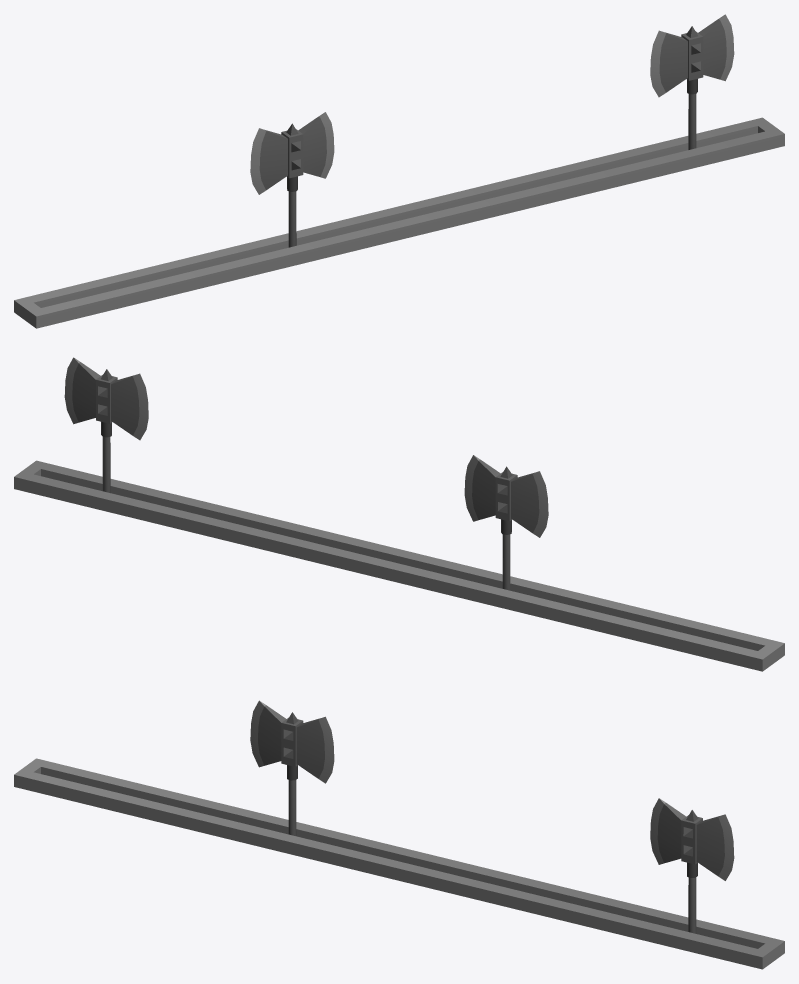
The model's file is Loop_Trap_3.fbx.
3 renders of one model, top to bottom at view 1: azimuth 30°, elevation 25°; view 2: azimuth 150°, elevation 25°; view 3: azimuth 330°, elevation 25°, orthographic.
Parts seen in each view (by area): view 1: Loop_Trap_3; view 2: Loop_Trap_3; view 3: Loop_Trap_3.
Part boxes in pixels (left/top/right/bottom): Loop_Trap_3: left=14, top=14, right=784, bottom=328; Loop_Trap_3: left=14, top=357, right=784, bottom=671; Loop_Trap_3: left=14, top=700, right=784, bottom=969.
Size of the model in its own units: 816 by 142 by 42.19.
Materials: 1 (1 with a texture image).
